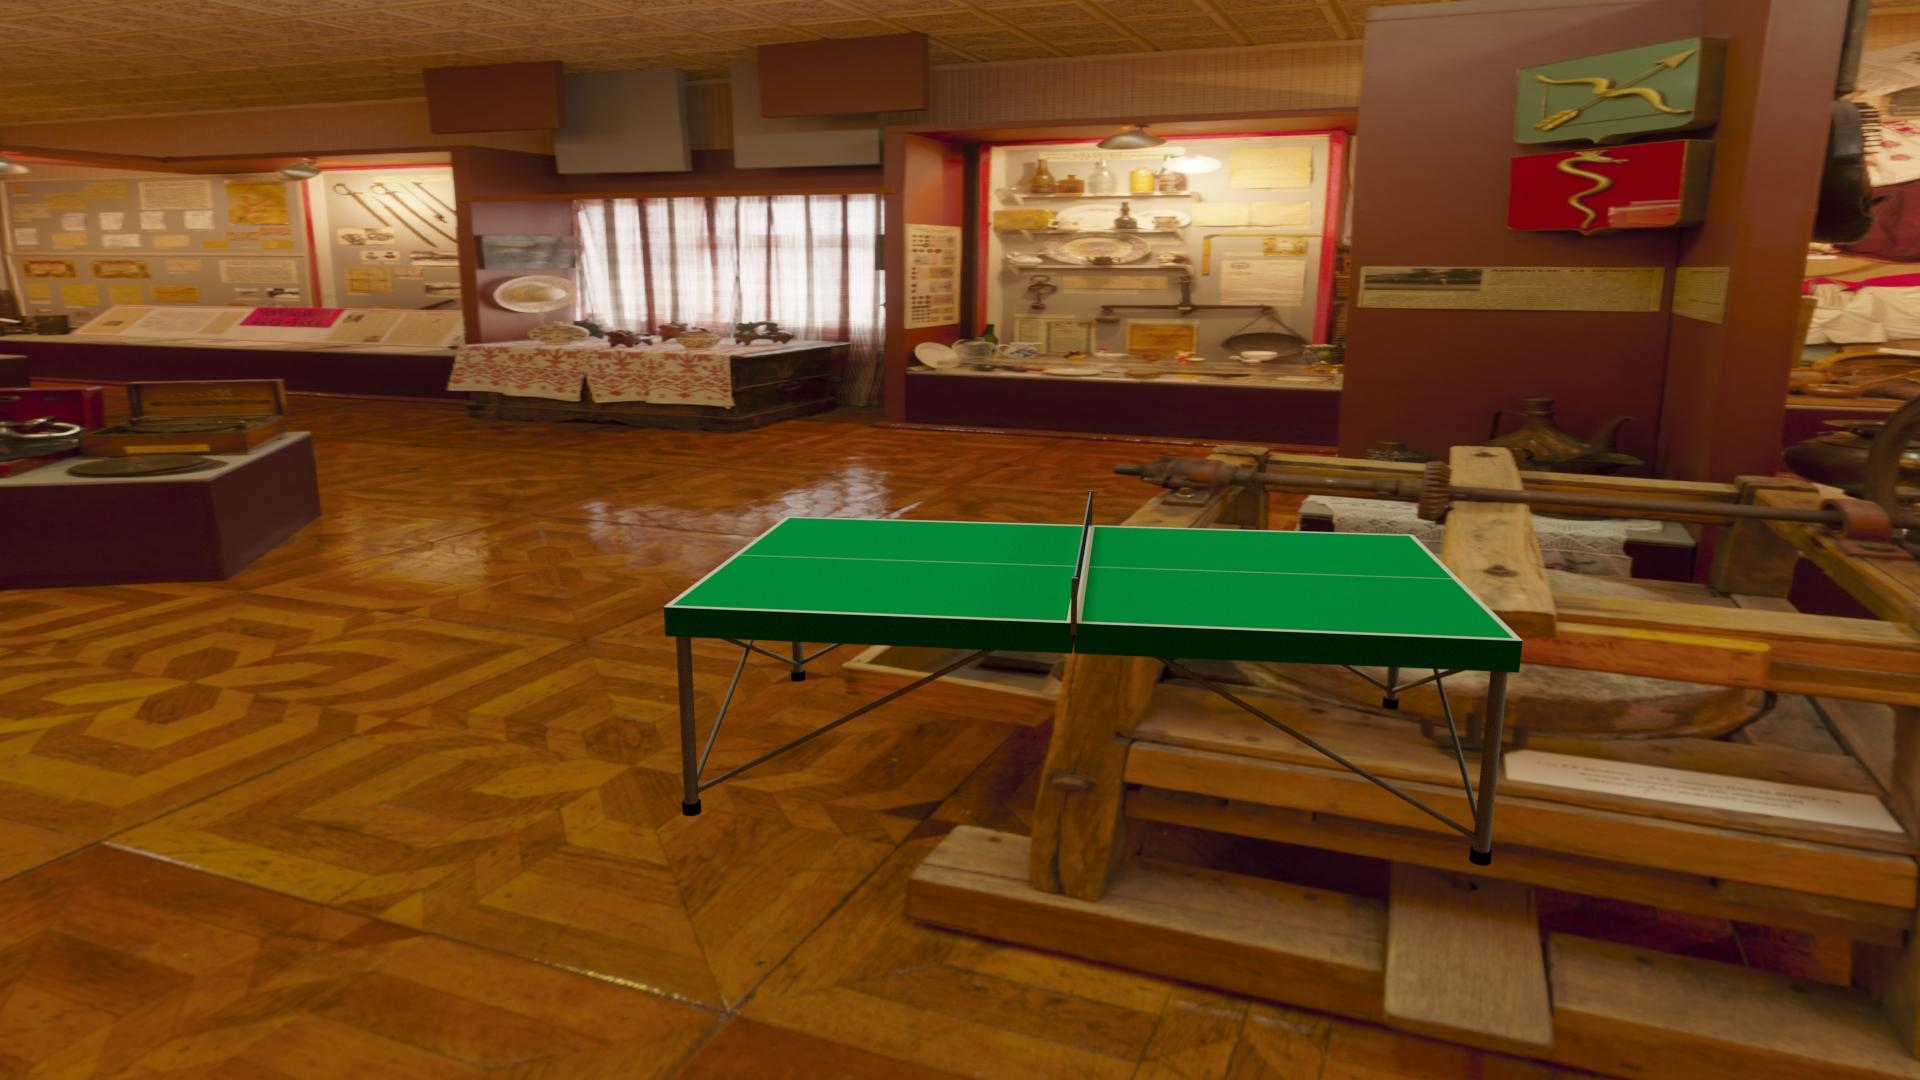table: (671, 517, 1514, 638)
